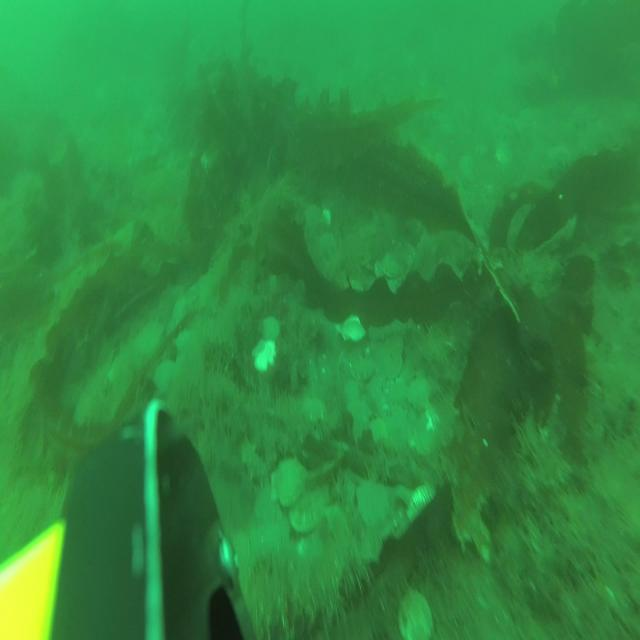holothurian: (236, 434, 272, 493)
scallop: (287, 485, 327, 536), (396, 587, 434, 640), (354, 480, 392, 530), (276, 456, 309, 512), (152, 359, 182, 400), (337, 308, 368, 344), (407, 374, 433, 414), (252, 336, 277, 374), (350, 355, 378, 383), (381, 351, 404, 382), (260, 312, 282, 344), (380, 252, 405, 280), (304, 397, 326, 423), (387, 333, 405, 356), (495, 145, 513, 167), (372, 260, 384, 283)
starfish: (346, 396, 372, 428)
